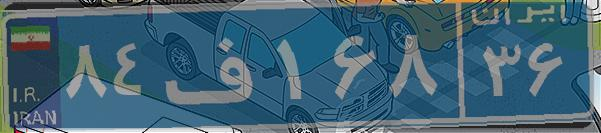1: (273, 28, 330, 110)
3: (475, 38, 525, 113)
4: (110, 28, 158, 105)
6: (330, 28, 385, 110), (525, 38, 570, 115)
8: (385, 28, 445, 110), (57, 26, 110, 107)
ف: (158, 15, 273, 115)
